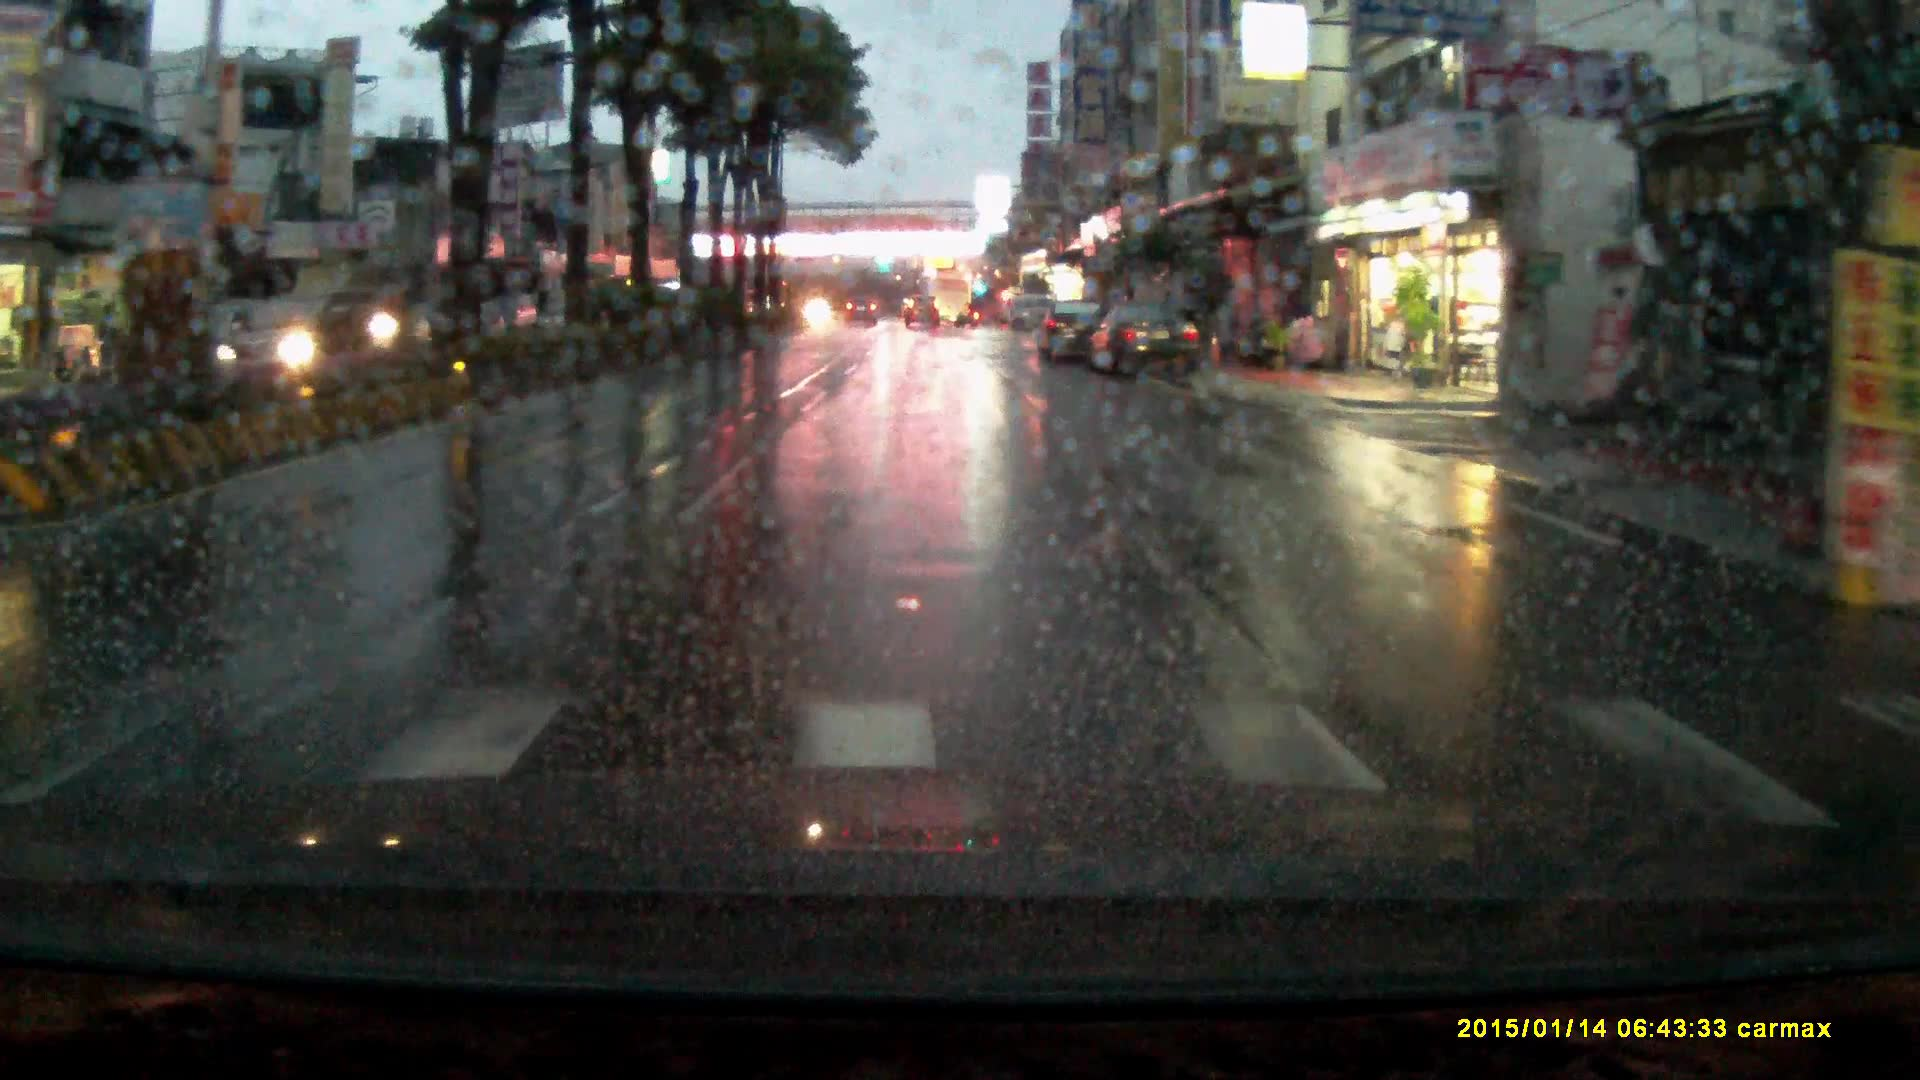rider: (354, 247, 436, 404)
vehicle: (217, 286, 399, 383), (1082, 299, 1201, 383), (180, 303, 271, 367), (1031, 297, 1102, 364), (915, 272, 974, 328), (902, 292, 938, 329), (844, 294, 876, 324)
